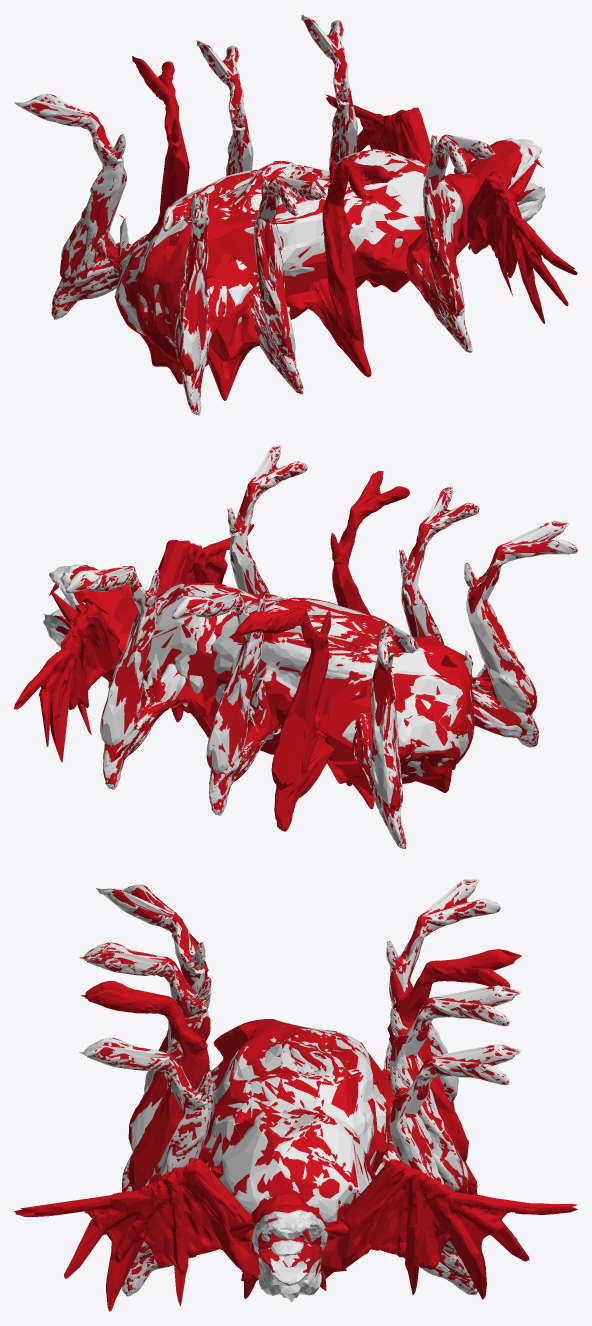
File: spideyboi.glb
The picture shows the model from 3 angles, top to bottom: view 1: azimuth 30°, elevation 25°; view 2: azimuth 150°, elevation 25°; view 3: azimuth 270°, elevation 25°; orthographic projection. The views are drawn at different scales.
Parts seen in each view (by area): view 1: Cone.003, Sphere.002, Cylinder.013, Cylinder.015, Cylinder.020, Cylinder.012, Cylinder.016, Cylinder.014, Sphere.003, Sphere; view 2: Cone.003, Sphere.002, Cylinder.012, Cylinder.016, Cylinder.014, Cylinder.013, Cylinder.020, Cylinder.015, Sphere.003; view 3: Cone.003, Sphere.002, Cylinder.016, Cylinder.014, Cylinder.020, Cylinder.015, Cylinder.013, Cylinder.012, Sphere.003, Sphere, Sphere.004.
Part boxes in pixels (box(x1,y1,x2,y2)): Cone.003: box(15, 15, 577, 413); Sphere.002: box(115, 149, 462, 346); Cylinder.013: box(14, 93, 146, 319); Cylinder.015: box(250, 175, 326, 394); Cylinder.020: box(404, 134, 495, 352); Cylinder.012: box(163, 192, 227, 415); Cylinder.016: box(301, 14, 357, 166); Cylinder.014: box(196, 40, 253, 175); Sphere.003: box(466, 137, 541, 188); Sphere: box(517, 186, 545, 221); Cone.003: box(14, 446, 577, 848); Sphere.002: box(132, 583, 472, 777); Cylinder.012: box(464, 520, 577, 747); Cylinder.016: box(66, 566, 185, 789); Cylinder.014: box(172, 592, 281, 815); Cylinder.013: box(353, 623, 418, 849); Cylinder.020: box(227, 444, 307, 594); Cylinder.015: box(399, 486, 478, 644); Sphere.003: box(49, 564, 85, 610); Cone.003: box(14, 880, 577, 1311); Sphere.002: box(205, 1020, 387, 1222); Cylinder.016: box(369, 1044, 521, 1295); Cylinder.014: box(373, 985, 521, 1193); Cylinder.020: box(79, 1037, 211, 1296); Cylinder.015: box(80, 942, 213, 1191); Cylinder.013: box(382, 878, 500, 1111); Cylinder.012: box(96, 884, 218, 1092); Sphere.003: box(251, 1209, 327, 1254); Sphere: box(258, 1255, 321, 1302); Sphere.004: box(260, 1243, 310, 1283).
Size of the model in its own units: 27.73 by 13.77 by 26.04.
1 material, 1 textured.
